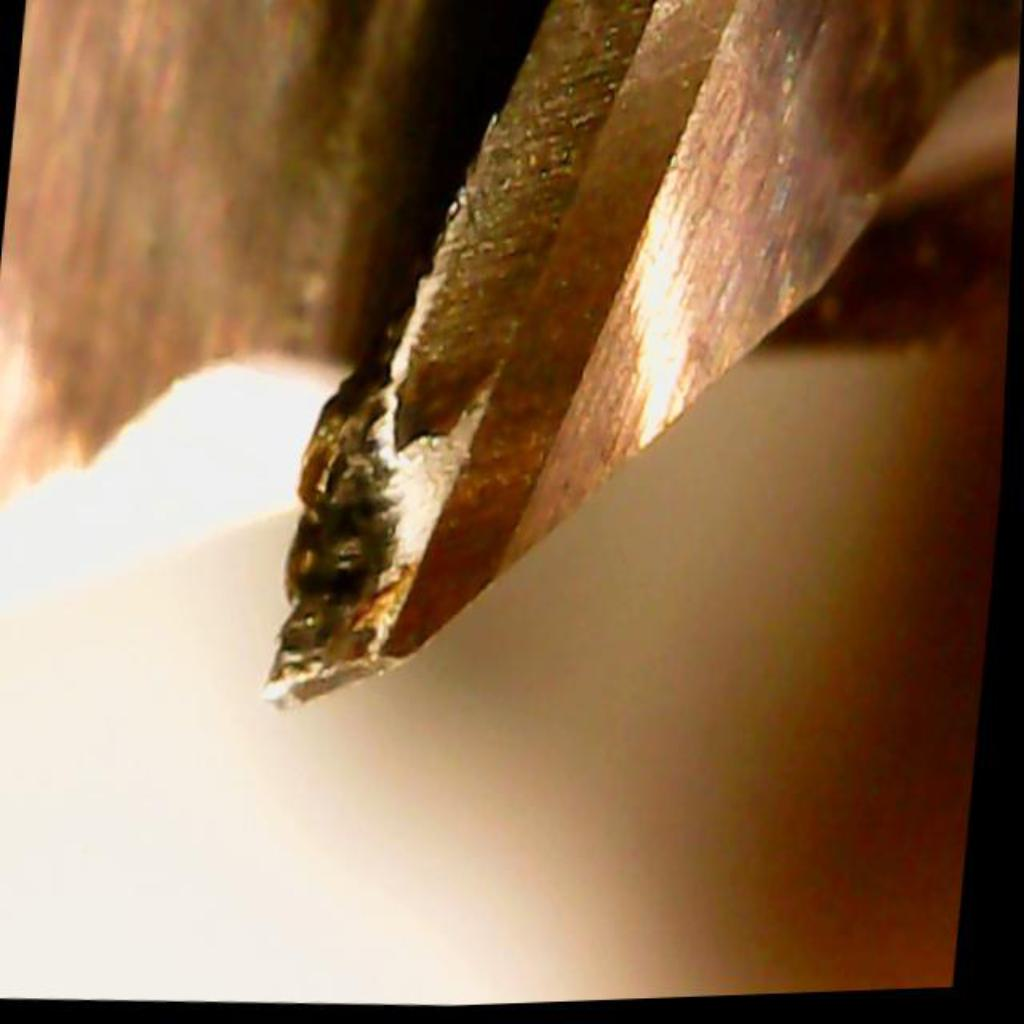Tool-wear-class-3: (246, 343, 546, 746)
